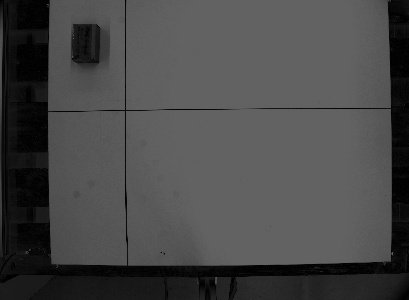b1: (69, 21, 103, 66)
